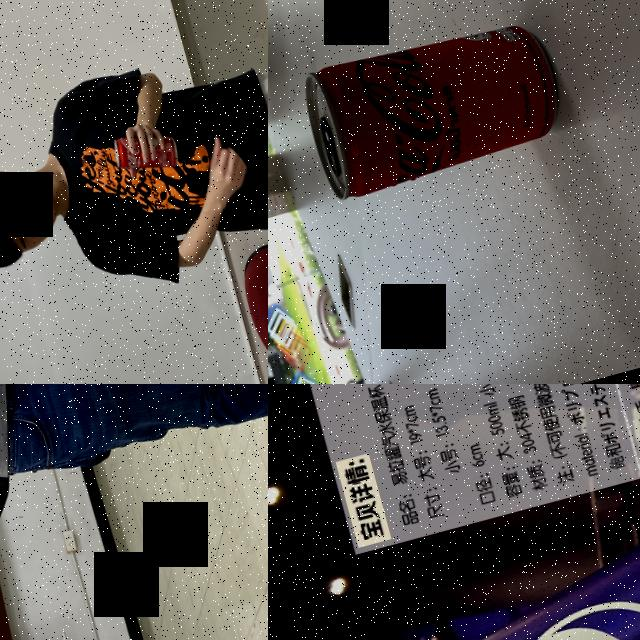can: (295, 8, 573, 206), (360, 479, 640, 640), (108, 121, 182, 181)
